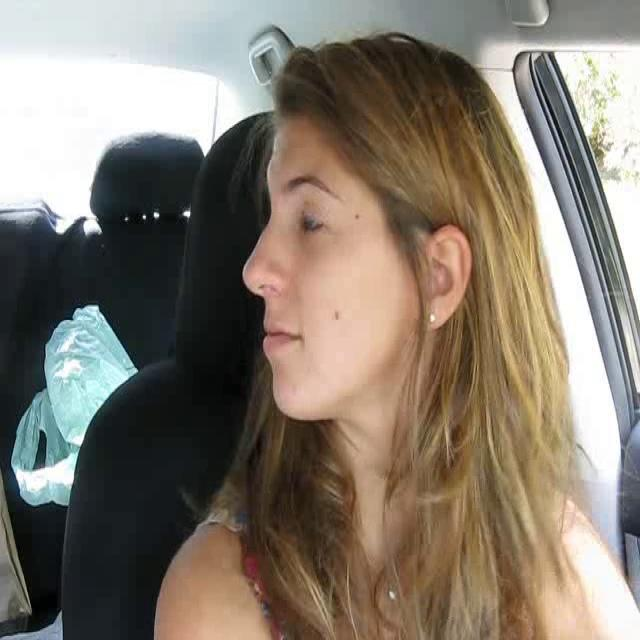close: (260, 314, 306, 362)
